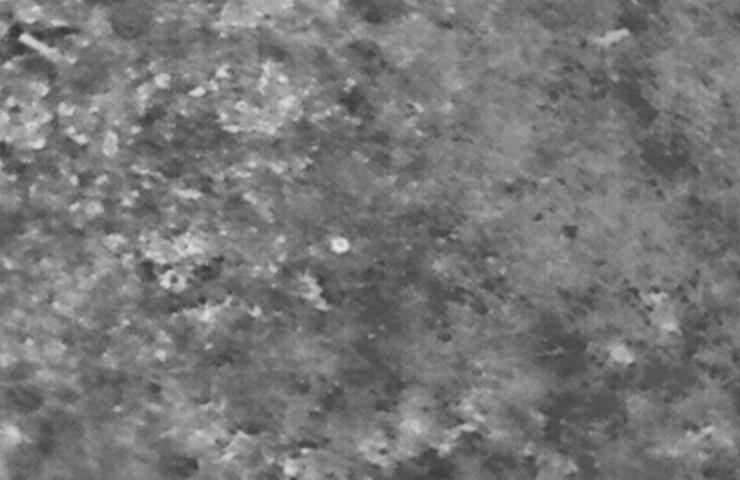landmines: (330, 234, 353, 260)
